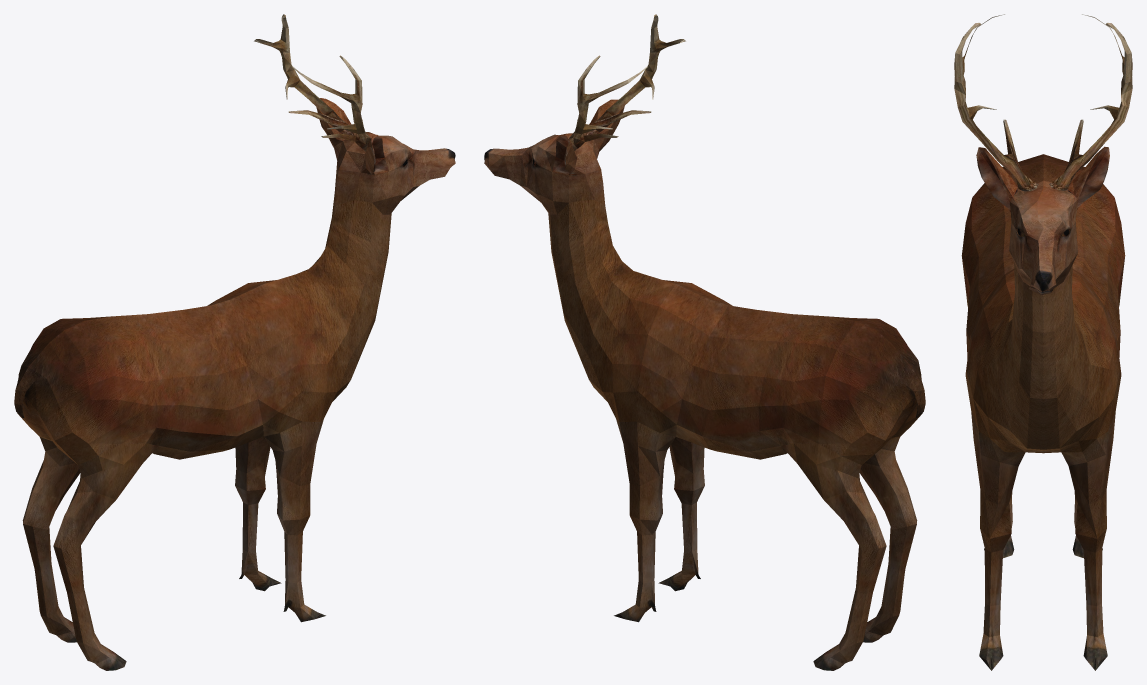
The model's file is deer.glb.
The picture shows the model from 3 angles, left to right: view 1: azimuth 30°, elevation 25°; view 2: azimuth 150°, elevation 25°; view 3: azimuth 270°, elevation 25°; orthographic projection. The views are drawn at different scales.
Bounding box in the file's own units: 2.05 × 2.5 × 0.6192.
Materials: 2 (2 with a texture image).
